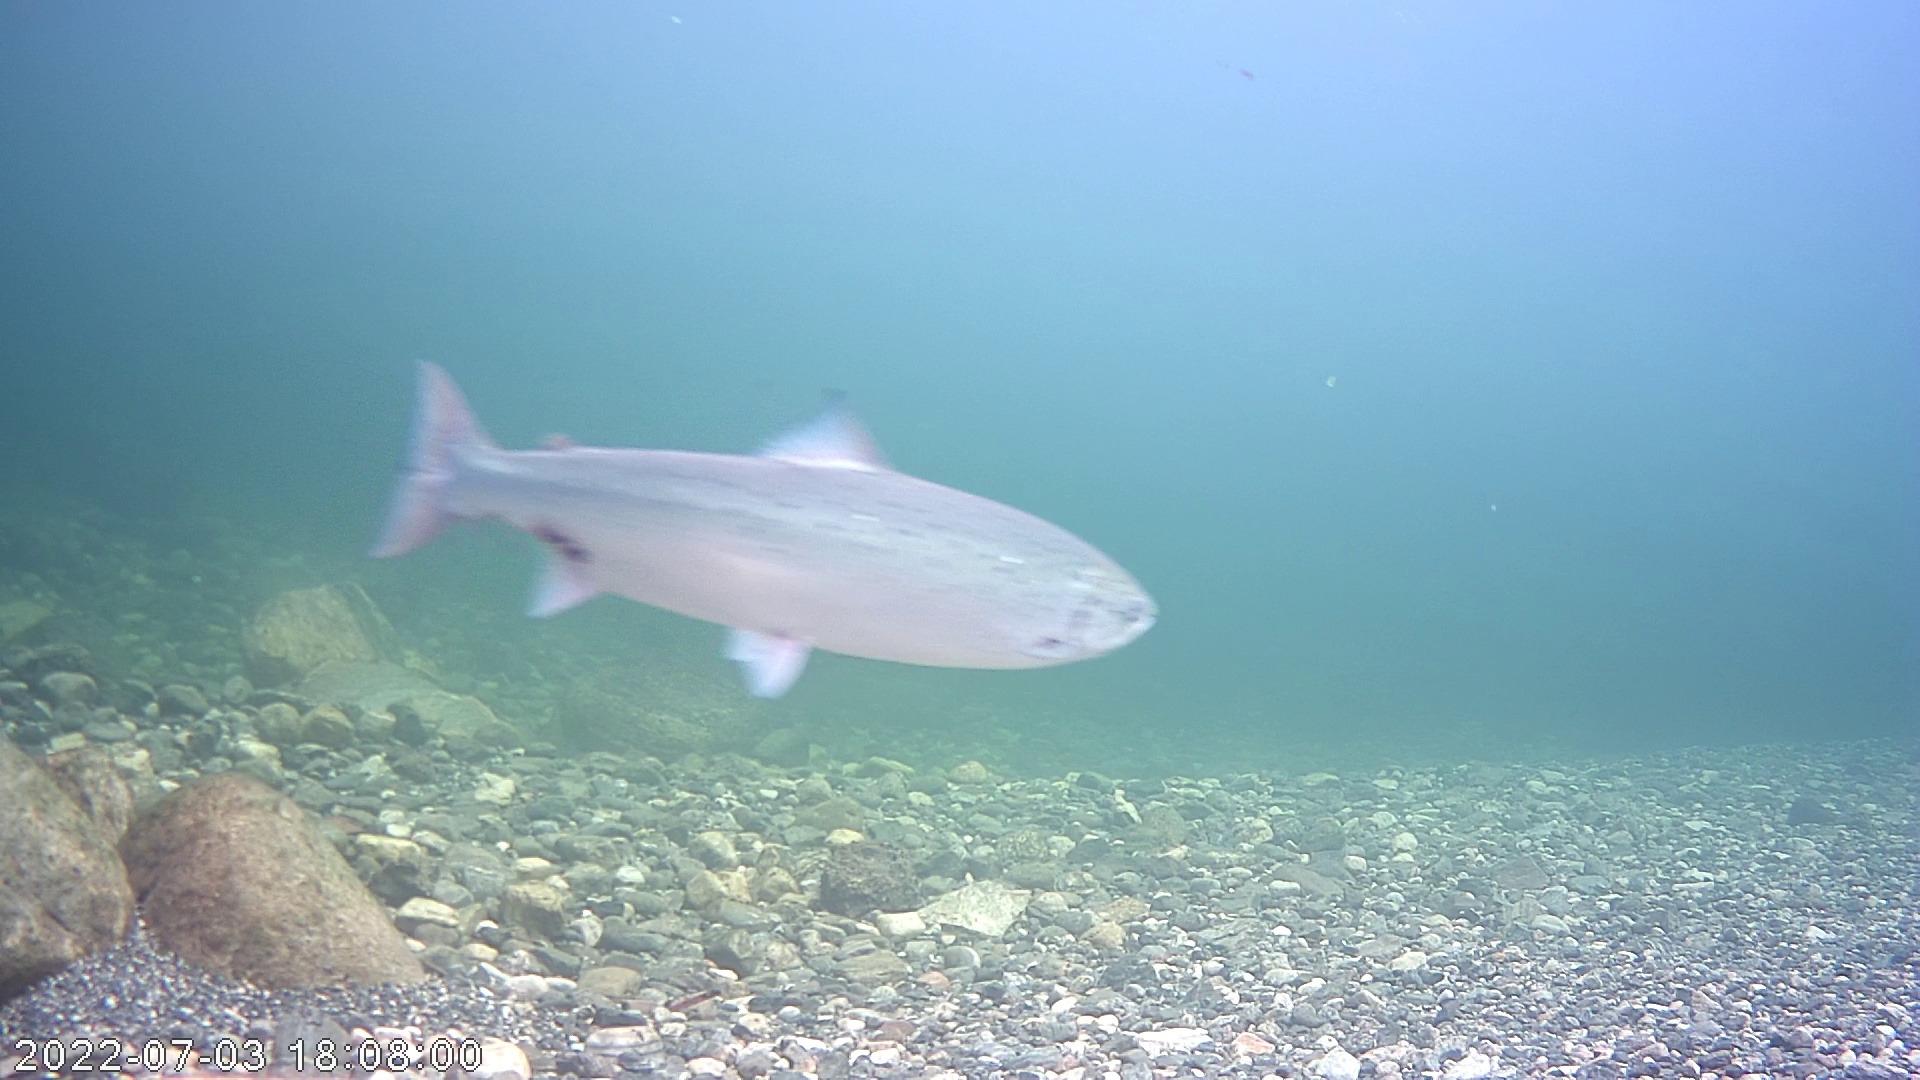salmon: (369, 355, 1163, 702)
